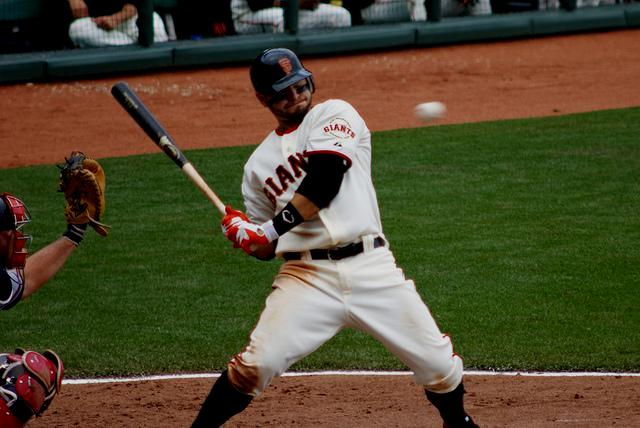baseball bat: (112, 81, 228, 214)
